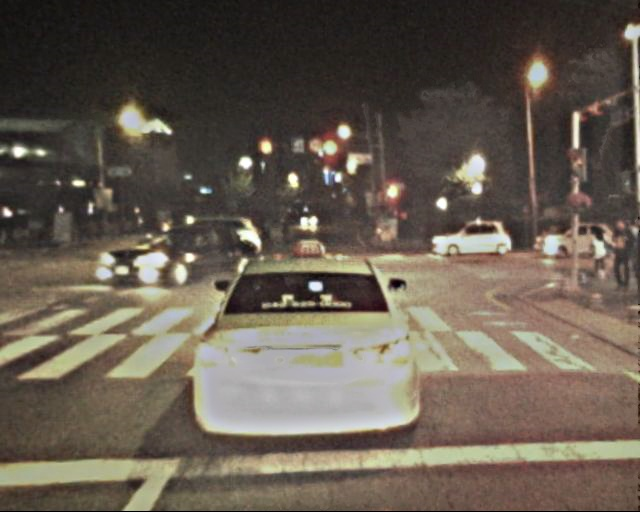person: (606, 219, 635, 290), (588, 230, 608, 279), (277, 215, 293, 253), (258, 217, 271, 249)
